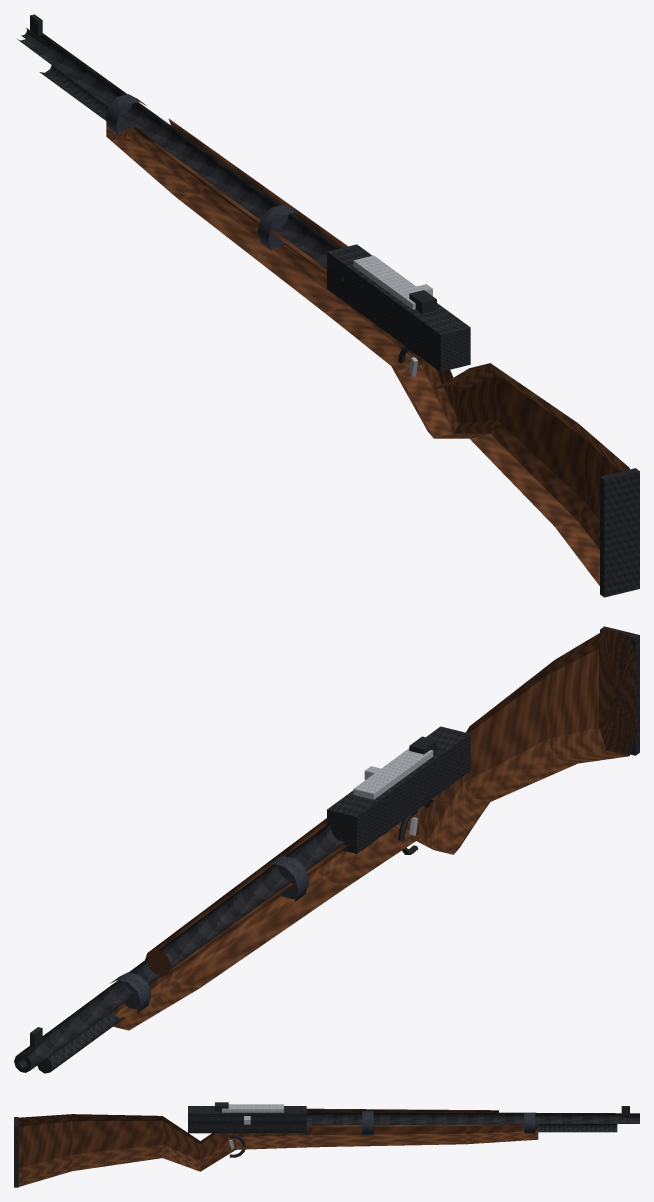
File: m1_garand.glb
3 renders of one model, top to bottom at view 1: azimuth 30°, elevation 25°; view 2: azimuth 150°, elevation 25°; view 3: azimuth 270°, elevation 25°, orthographic. The views are drawn at different scales.
Parts seen in each view (by area): view 1: WeaponMesh; view 2: WeaponMesh; view 3: WeaponMesh.
Boxes of the visible parts, bbox=[...] form: WeaponMesh: bbox=[17, 14, 639, 597]; WeaponMesh: bbox=[14, 626, 639, 1073]; WeaponMesh: bbox=[14, 1102, 639, 1187].
Bounding box in the file's own units: 0.055 × 0.156 × 1.11.
4 materials, 4 textured.
